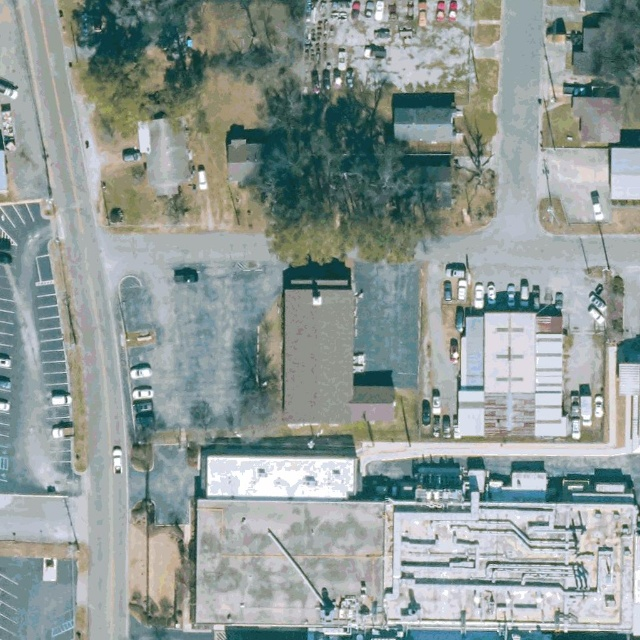vegetation: (245, 92, 438, 267), (79, 21, 273, 144)
